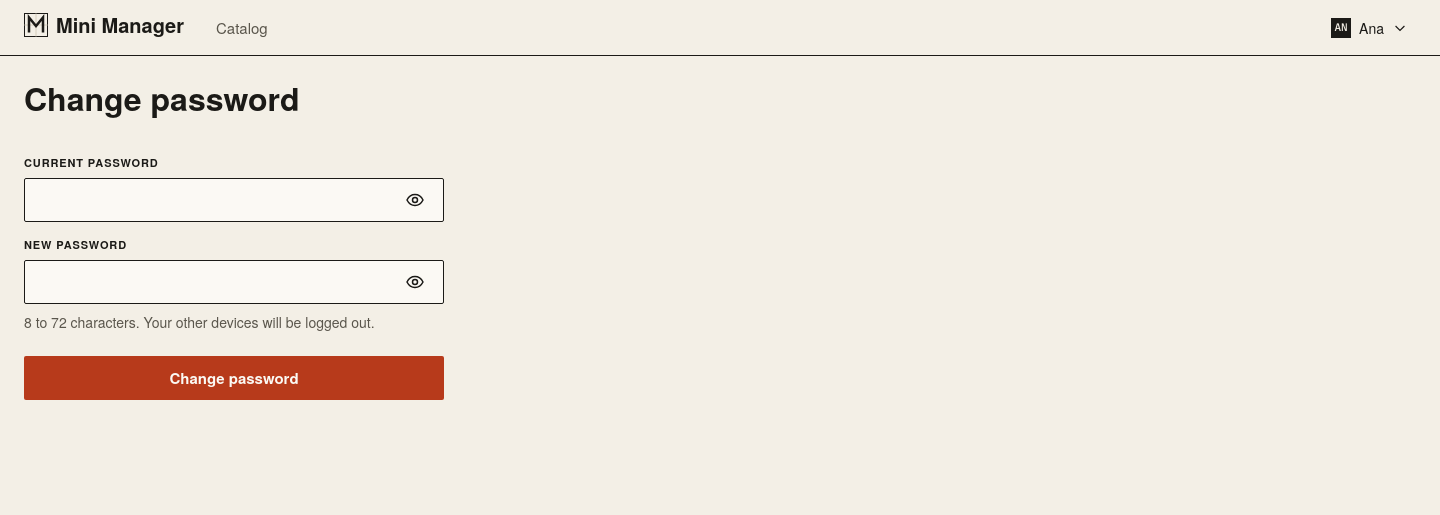
Scenario: ChangePasswordPage › card 3 rule 3: says the other devices were logged out
In the password field labelled "Current password": (214, 200) [37,179,391,221], type "correct horse"
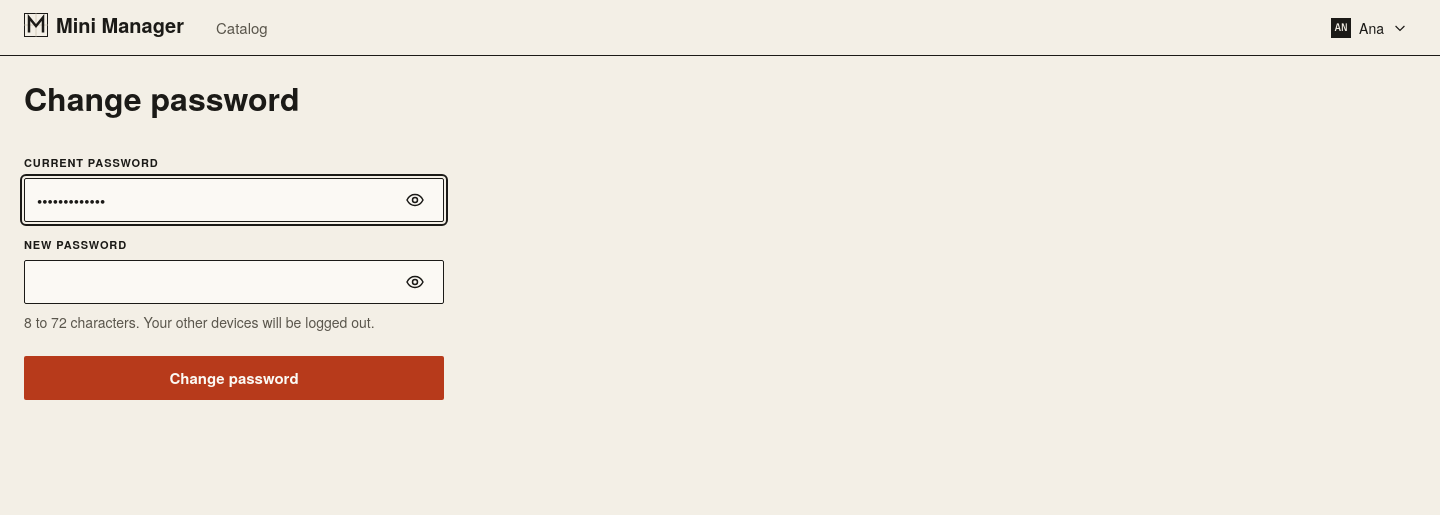
In the password field labelled "New password": (214, 282) [37,261,391,303], type "a brand new password"
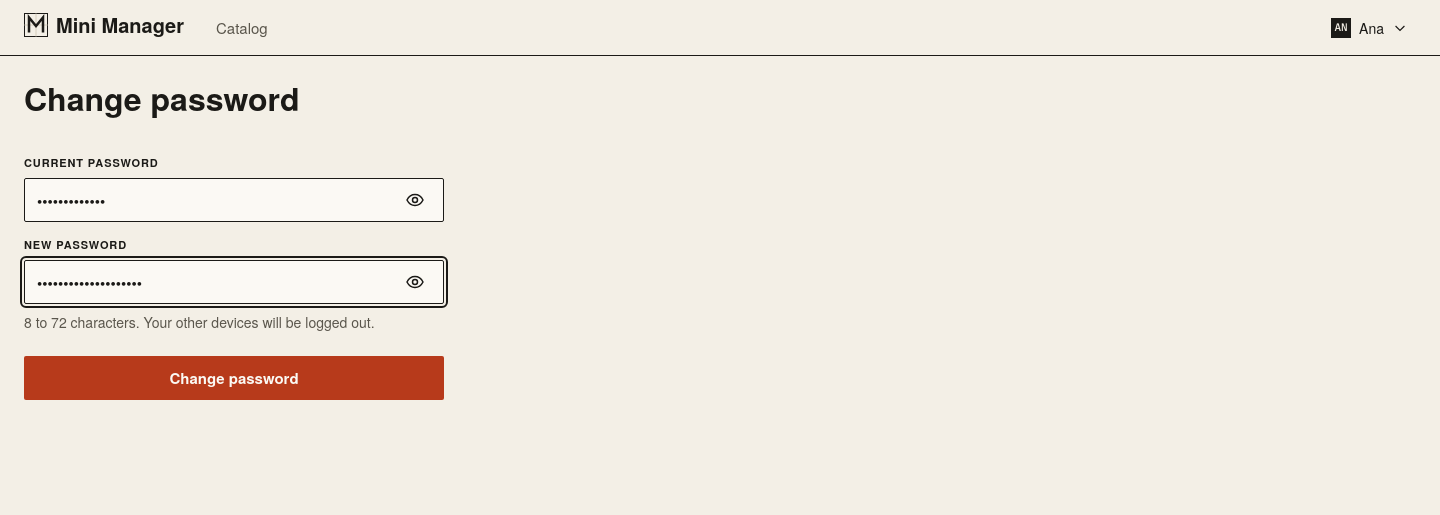
Click the button "Change password": (234, 378) [24,356,444,400]
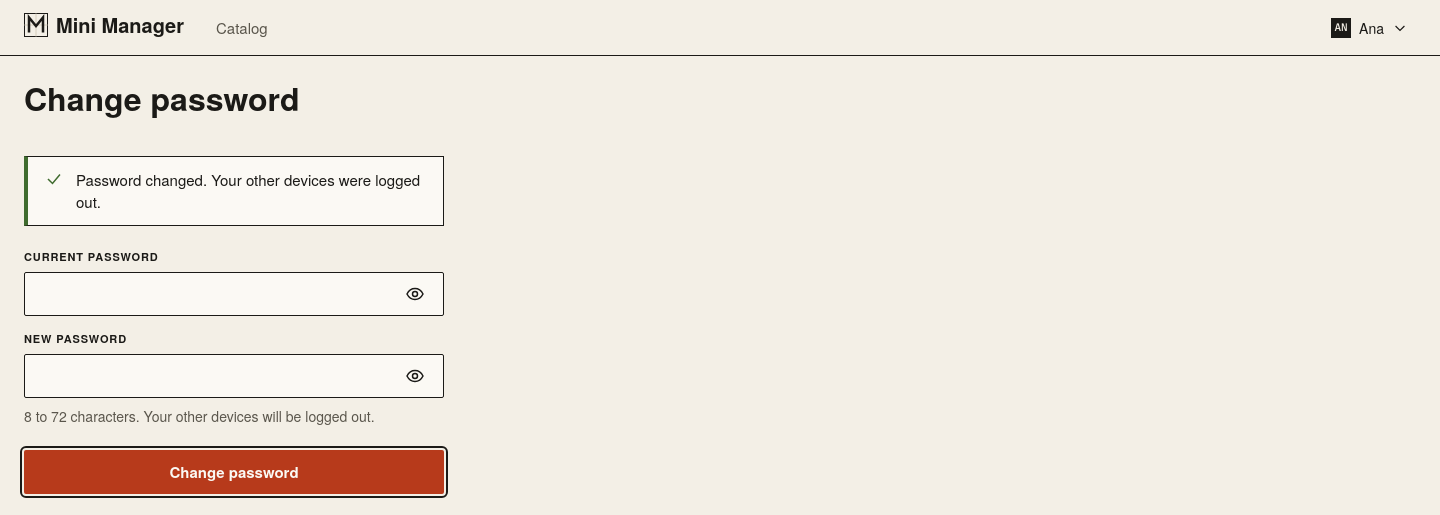
Expected: the text "Password changed. Your other devices were logged out." is shown, [76,169,427,213]
